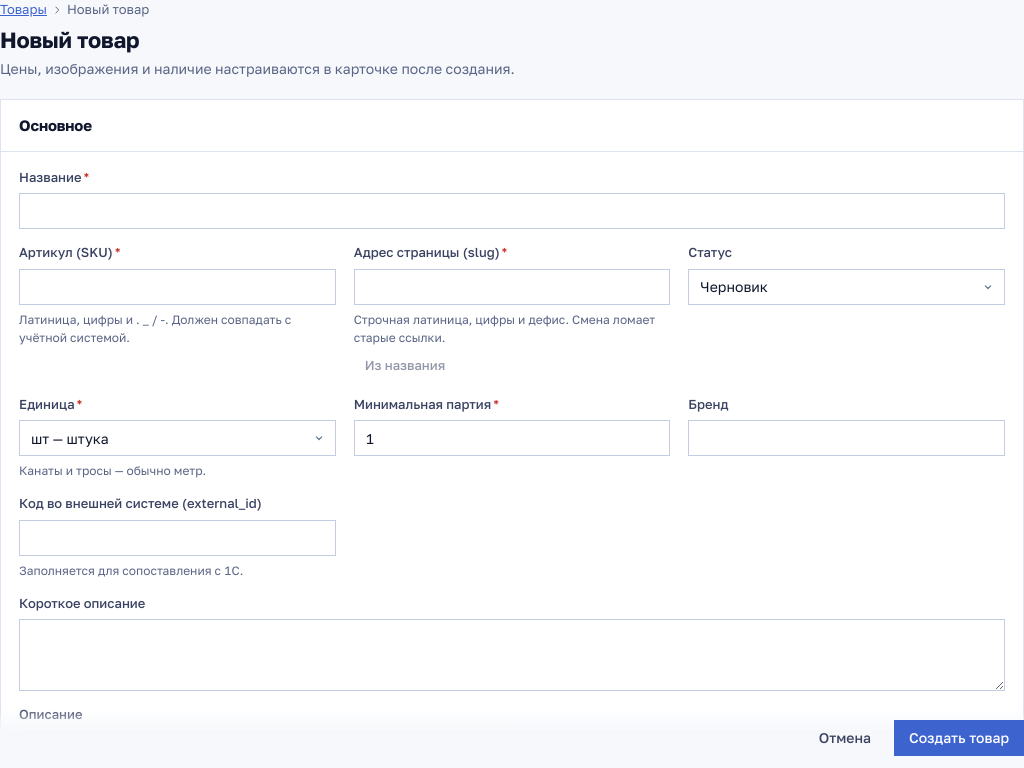
Scenario: создание товара › проверяет поля до отправки
The image size is (1024, 768).
Expected: the heading "Новый товар" is shown, [0,26,139,52]
What coordinates should you click on to do the following:
click the button "Создать товар"
I would click on:
 (959, 738)
Its box is [894,720,1023,756].
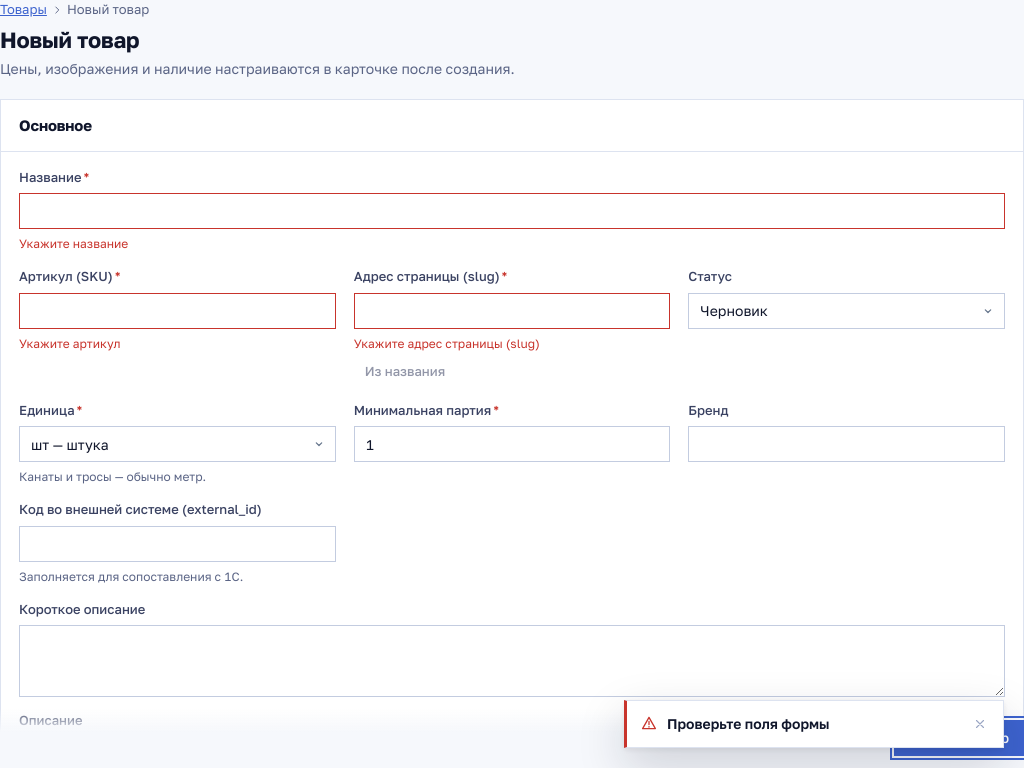
Now the text "Укажите название" is shown, box [19,236,128,251]
Now the text "Укажите артикул" is shown, box [19,336,120,351]
